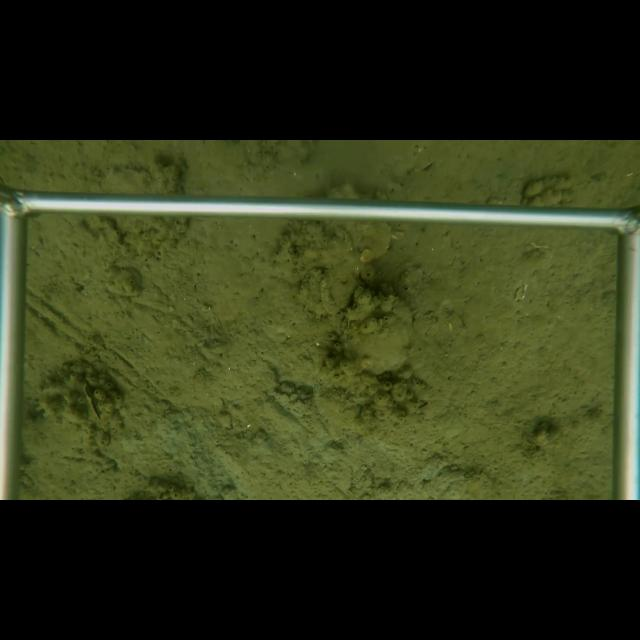Oyster-Closed: (334, 295, 418, 380), (343, 220, 395, 265)
Oyster-Open: (79, 379, 102, 423)
